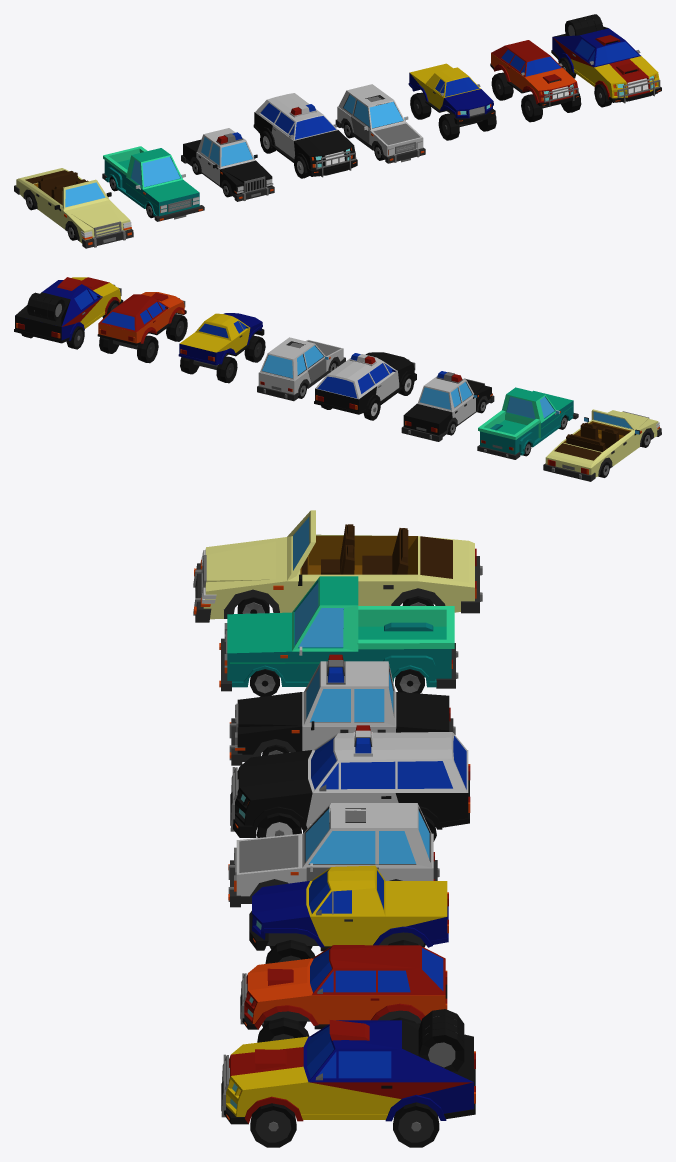
File: Cars.fbx
3 views of the same model, one above another, from view 1: azimuth 30°, elevation 25°; view 2: azimuth 150°, elevation 25°; view 3: azimuth 270°, elevation 25° (orthographic). The views are drawn at different scales.
Visible parts, largest first — view 1: Transport_jeep, Police_Xuv, Topless_car, Transport_car, Xuv, Car, Jeep, police_car; view 2: Topless_car, Transport_jeep, Police_Xuv, Transport_car, Xuv, Jeep, police_car, Car; view 3: Transport_jeep, Topless_car, Police_Xuv, Transport_car, Xuv, Jeep, police_car, Car.
Boxes of the visible parts, x1=… form: Transport_jeep: x1=551, y1=14, x2=661, y2=107; Police_Xuv: x1=253, y1=93, x2=357, y2=178; Topless_car: x1=14, y1=168, x2=133, y2=248; Transport_car: x1=102, y1=146, x2=204, y2=221; Xuv: x1=490, y1=40, x2=581, y2=122; Car: x1=335, y1=84, x2=425, y2=163; Jeep: x1=408, y1=63, x2=496, y2=140; police_car: x1=181, y1=128, x2=274, y2=201; Topless_car: x1=543, y1=409, x2=661, y2=481; Transport_jeep: x1=14, y1=277, x2=123, y2=349; Police_Xuv: x1=314, y1=352, x2=416, y2=420; Transport_car: x1=477, y1=387, x2=578, y2=459; Xuv: x1=97, y1=292, x2=187, y2=363; Jeep: x1=178, y1=313, x2=265, y2=383; police_car: x1=401, y1=371, x2=494, y2=441; Car: x1=257, y1=337, x2=345, y2=401; Transport_jeep: x1=221, y1=1009, x2=475, y2=1147; Topless_car: x1=193, y1=510, x2=482, y2=622; Police_Xuv: x1=230, y1=725, x2=470, y2=841; Transport_car: x1=219, y1=576, x2=458, y2=696; Xuv: x1=240, y1=945, x2=447, y2=1042; Jeep: x1=249, y1=865, x2=448, y2=963; police_car: x1=229, y1=654, x2=455, y2=765; Car: x1=228, y1=803, x2=439, y2=907.
Size of the model in its own units: 4968 by 406 by 1066.
Materials: 1 (1 with a texture image).
